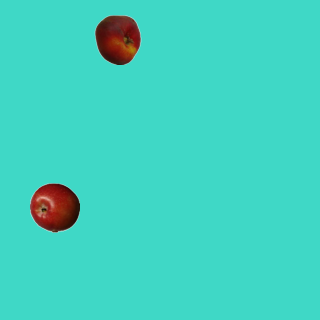Apple Braeburn: (29, 182, 79, 232)
Nectarine Flat: (92, 14, 142, 64)
